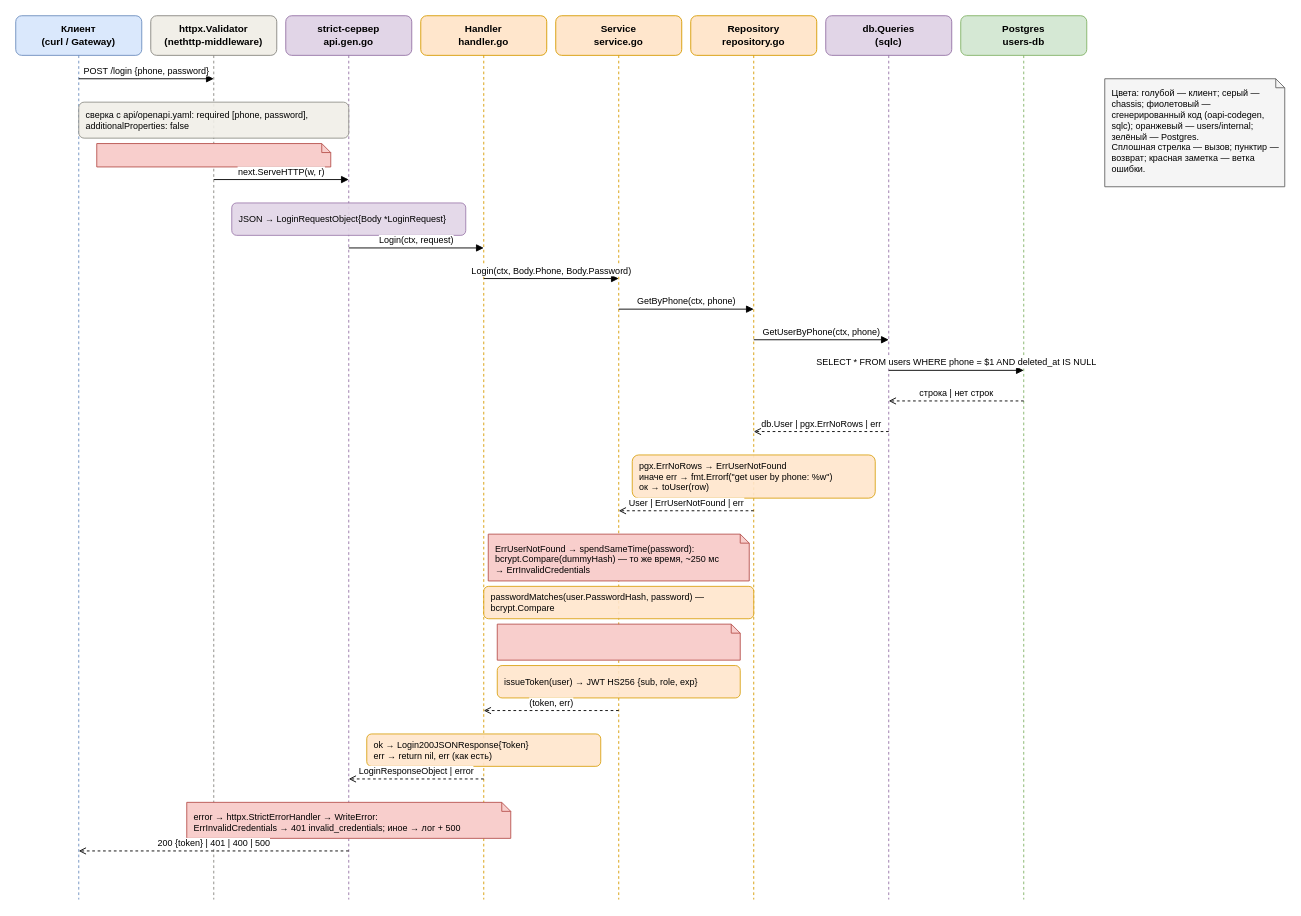
Some shapes in this 1301 by 916 pixel diagram are drawn without their labels. Here are the shapes that lost their labels. From the top down, the centre of each, then its label:
At [213,155]: "не по контракту → 400 validation_failed".
At [618,641]: "не совпал → ErrInvalidCredentials (та же ошибка, что «нет пользователя»)".
